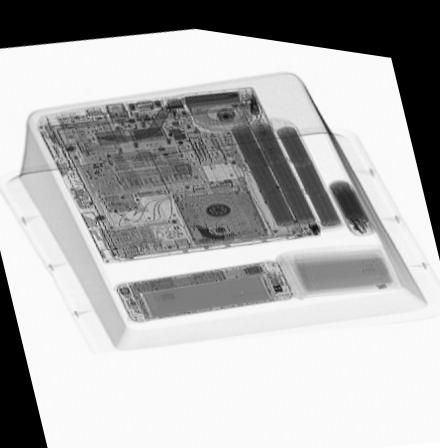Powerbank: (279, 232, 405, 288)
